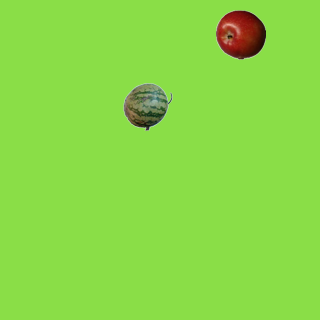Apple Braeburn: (215, 9, 265, 59)
Watermelon: (122, 81, 172, 131)
